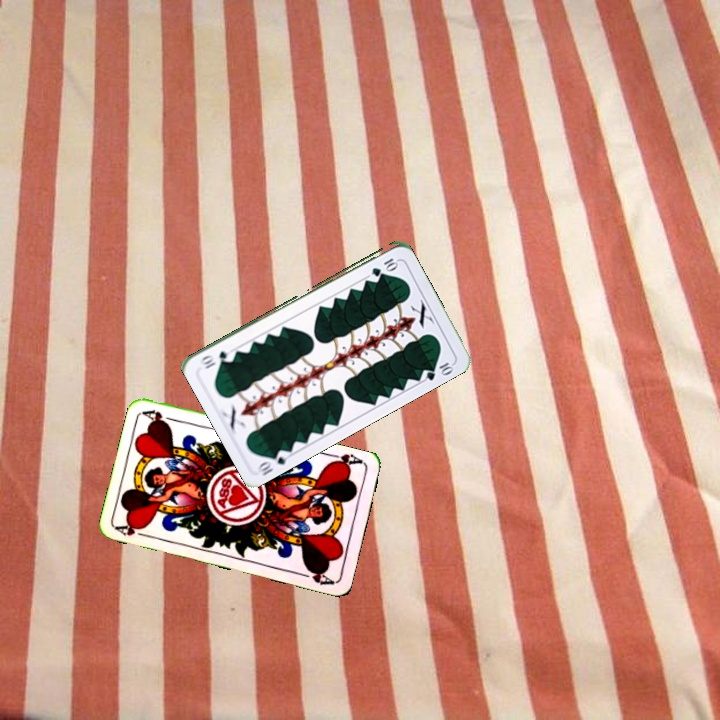G10: (253, 445, 293, 478), (368, 254, 400, 278)
HA: (112, 519, 153, 540), (325, 450, 365, 470)
